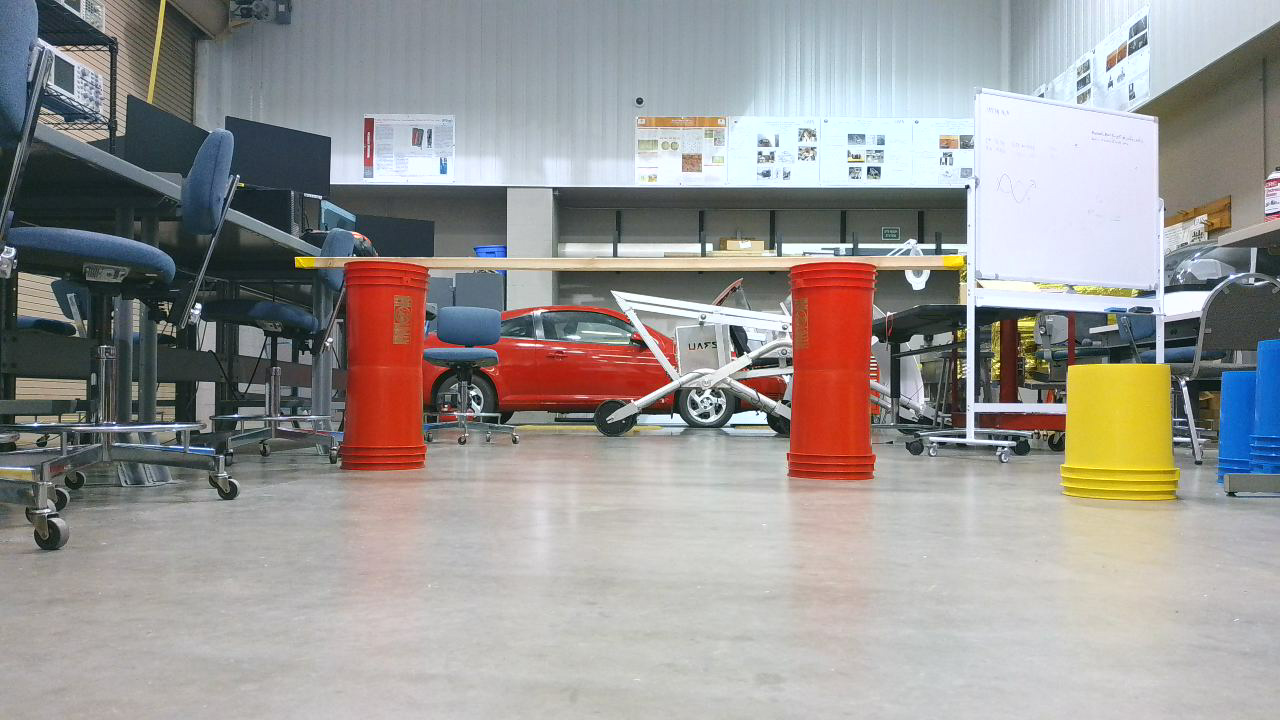red_bucket_arch: (330, 254, 904, 491)
yellow_bucket: (1058, 358, 1193, 511)
